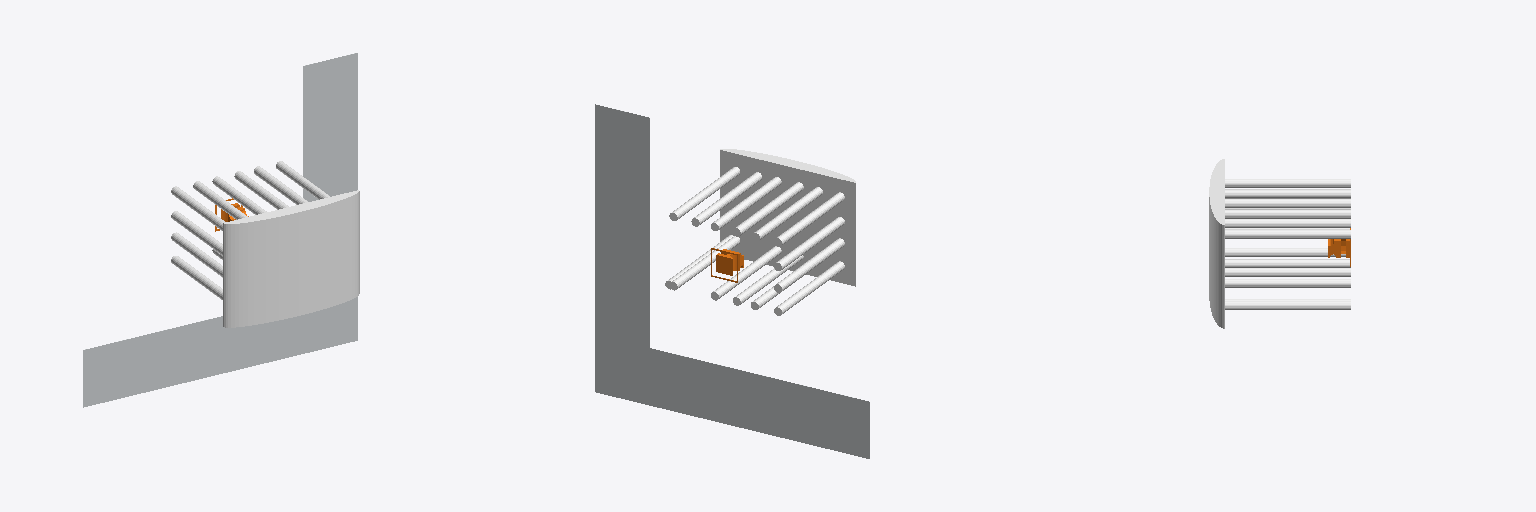
The model's file is tinker.obj.
3 renders of one model, left to right at view 1: azimuth 30°, elevation 25°; view 2: azimuth 150°, elevation 25°; view 3: azimuth 270°, elevation 25°, orthographic.
Visible parts, largest first — view 1: obj_0; view 2: obj_0; view 3: obj_0.
Boxes of the visible parts, box(x1,y1,x2,y2) form: obj_0: box(83, 53, 359, 407); obj_0: box(595, 104, 869, 458); obj_0: box(1209, 159, 1350, 328).
Size of the model in its own units: 200 by 200 by 89.